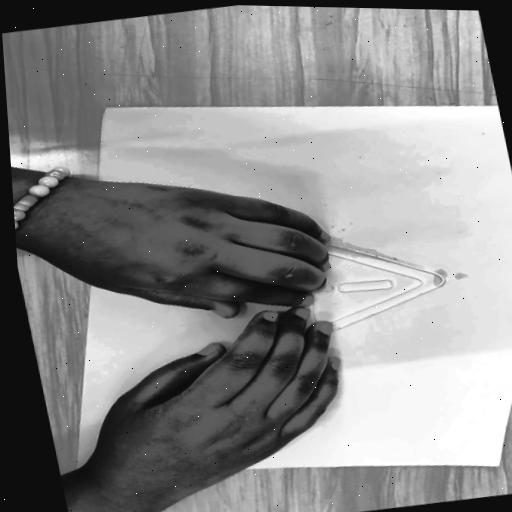bottom_left: (70, 466, 87, 476)
bottom_right: (96, 100, 117, 114)
signboard: (174, 231, 463, 346)
top_left: (489, 460, 505, 472)
